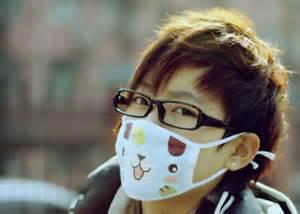OK: (113, 86, 230, 203)
